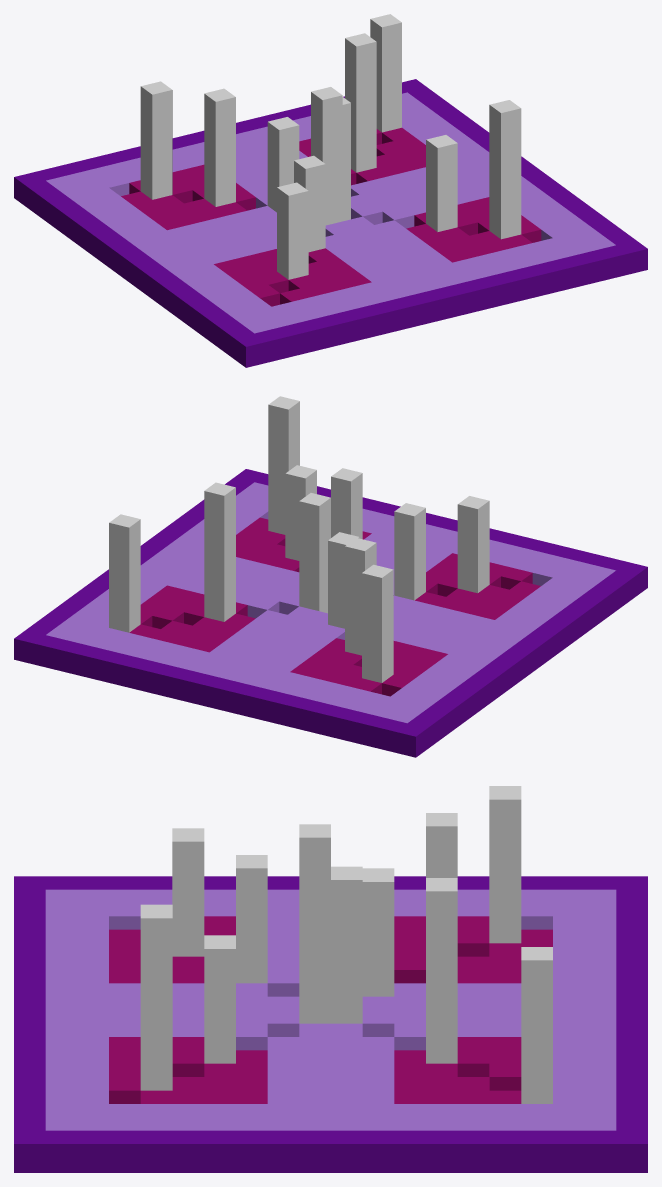
File: spike3.obj
3 renders of one model, top to bottom at view 1: azimuth 30°, elevation 25°; view 2: azimuth 150°, elevation 25°; view 3: azimuth 270°, elevation 25°, orthographic. The views are drawn at different scales.
Bounding box in the file's own units: 2 × 0.7 × 2.
1 material, 1 textured.
